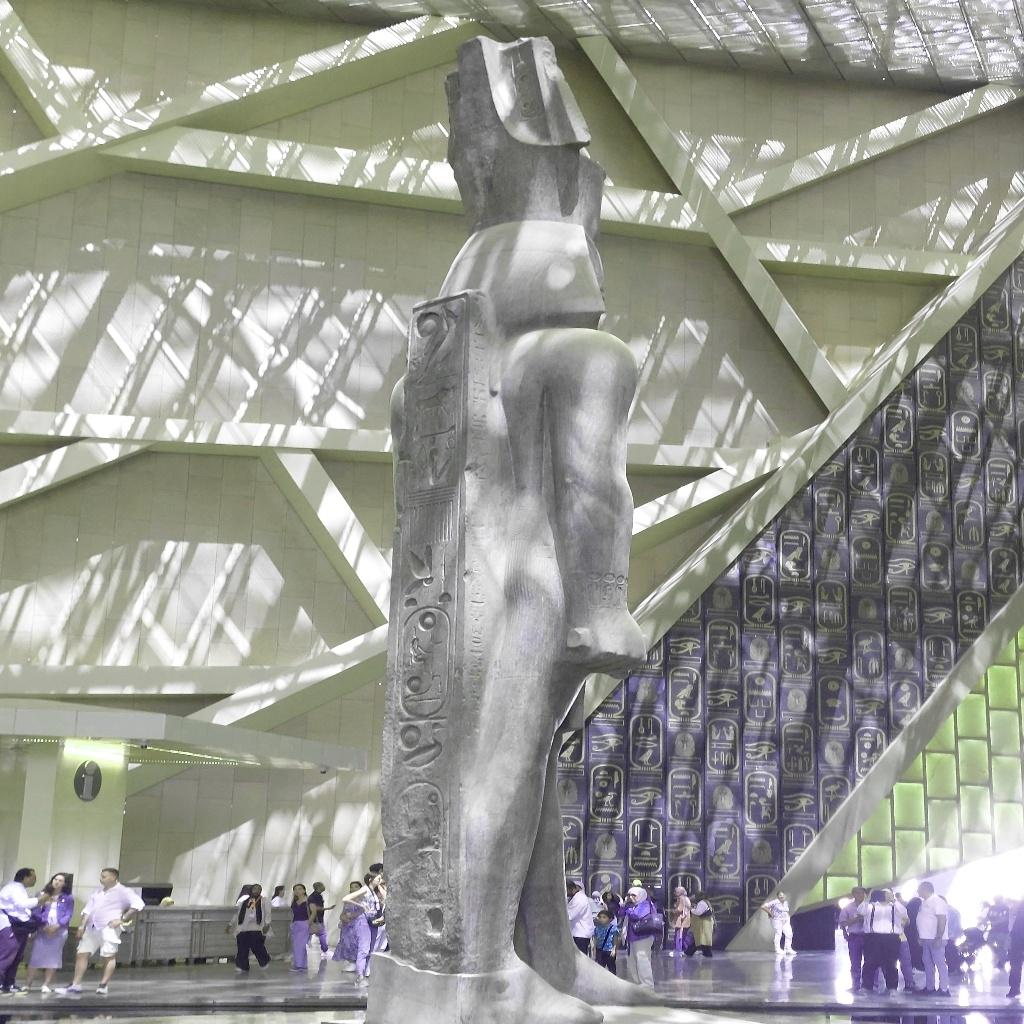Statue of King Ramses II Grand Egyptian Museum: (359, 31, 666, 1021)
